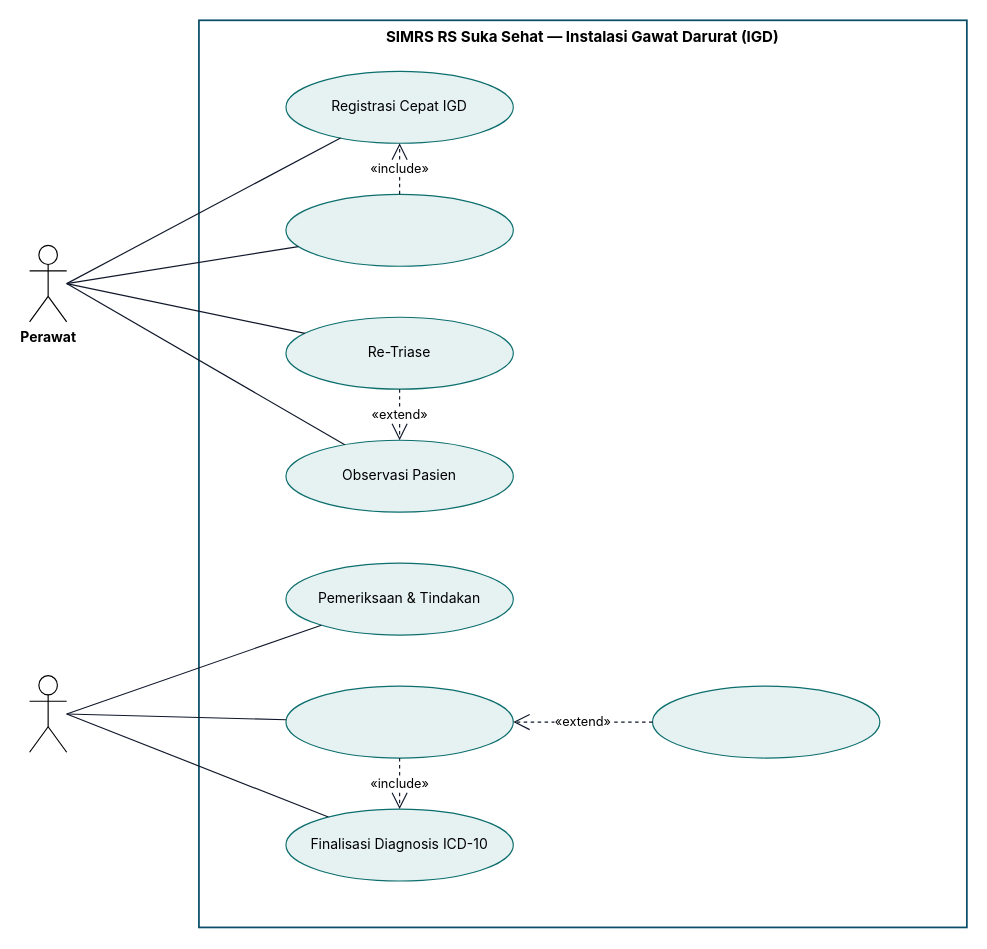
Some shapes in this 987 by 949 pixel diagram are drawn without their labels. Here are the shapes that lost their labels. From the top down, the centre of each, then its label:
At [399,229]: "Triase Pasien".
At [47,713]: "Dokter".
At [399,721]: "Tentukan Disposisi".
At [765,721]: "Buat Order Rawat Inap".
